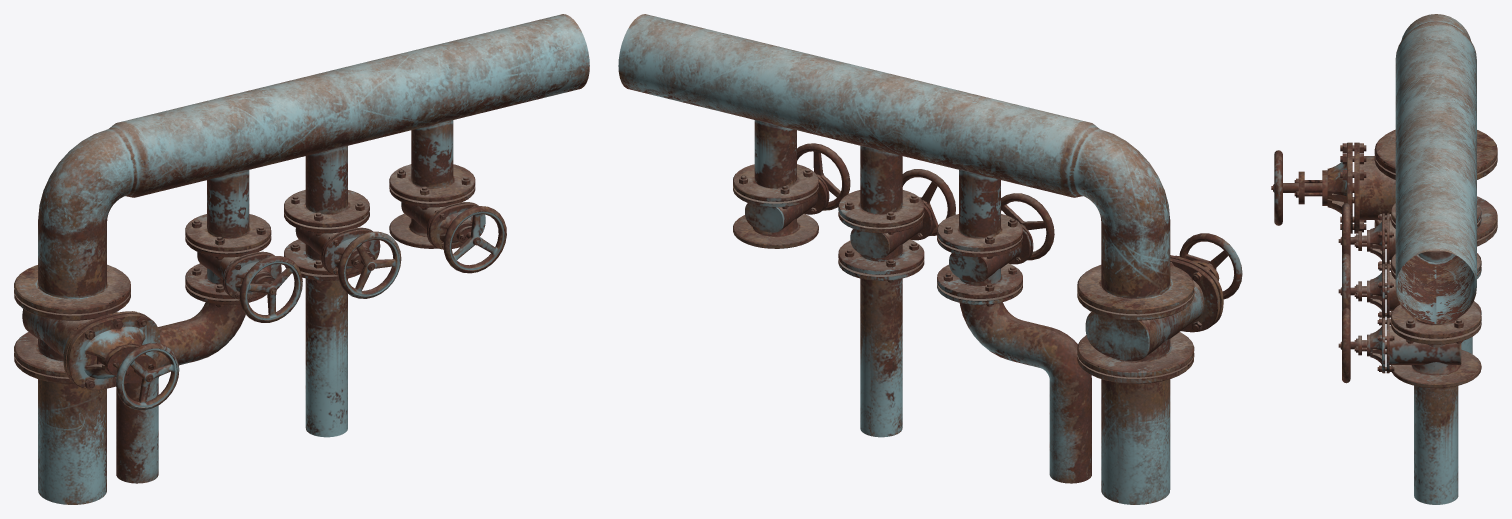
File: rusty_tubes.glb
The picture shows the model from 3 angles, left to right: view 1: azimuth 30°, elevation 25°; view 2: azimuth 150°, elevation 25°; view 3: azimuth 270°, elevation 25°; orthographic projection. The views are drawn at different scales.
Parts seen in each view (by area): view 1: rusty_tubes; view 2: rusty_tubes; view 3: rusty_tubes.
Boxes of the visible parts, <box> form: rusty_tubes: <box>14,14,589,504</box>; rusty_tubes: <box>618,14,1242,504</box>; rusty_tubes: <box>1271,14,1497,504</box>.
Size of the model in its own units: 2.46 by 1.51 by 0.8363.
Materials: 1 (1 with a texture image).
